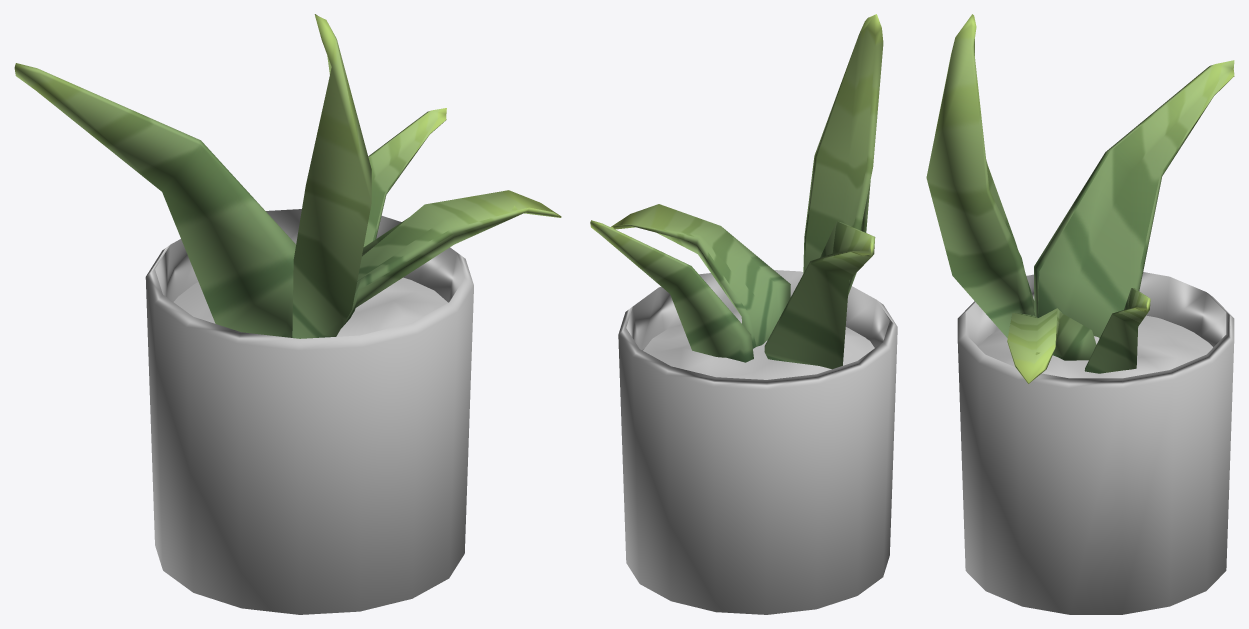
File: mesh_plant_reexport_LOD1_001.fbx
3 renders of one model, left to right at view 1: azimuth 30°, elevation 25°; view 2: azimuth 150°, elevation 25°; view 3: azimuth 270°, elevation 25°, orthographic. The views are drawn at different scales.
Visible parts, largest first — view 1: plant_LOD1_pot; view 2: plant_LOD1_pot; view 3: plant_LOD1_pot.
Part boxes in pixels (left/top/right/bottom): plant_LOD1_pot: left=14, top=14, right=561, bottom=614; plant_LOD1_pot: left=590, top=14, right=897, bottom=614; plant_LOD1_pot: left=926, top=14, right=1234, bottom=614.
Bounding box in the file's own units: 46.31 × 62.53 × 33.72.
